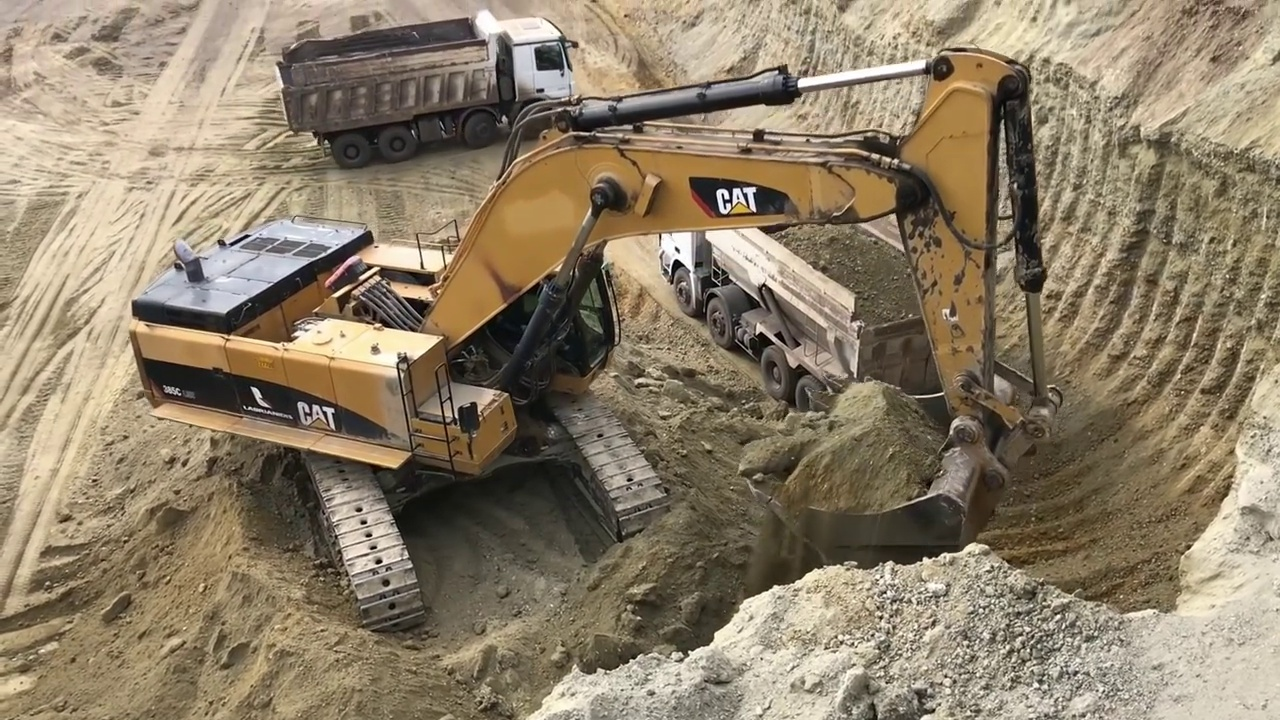excavator: (121, 46, 1061, 640)
truck: (660, 176, 938, 413), (276, 10, 576, 164)
